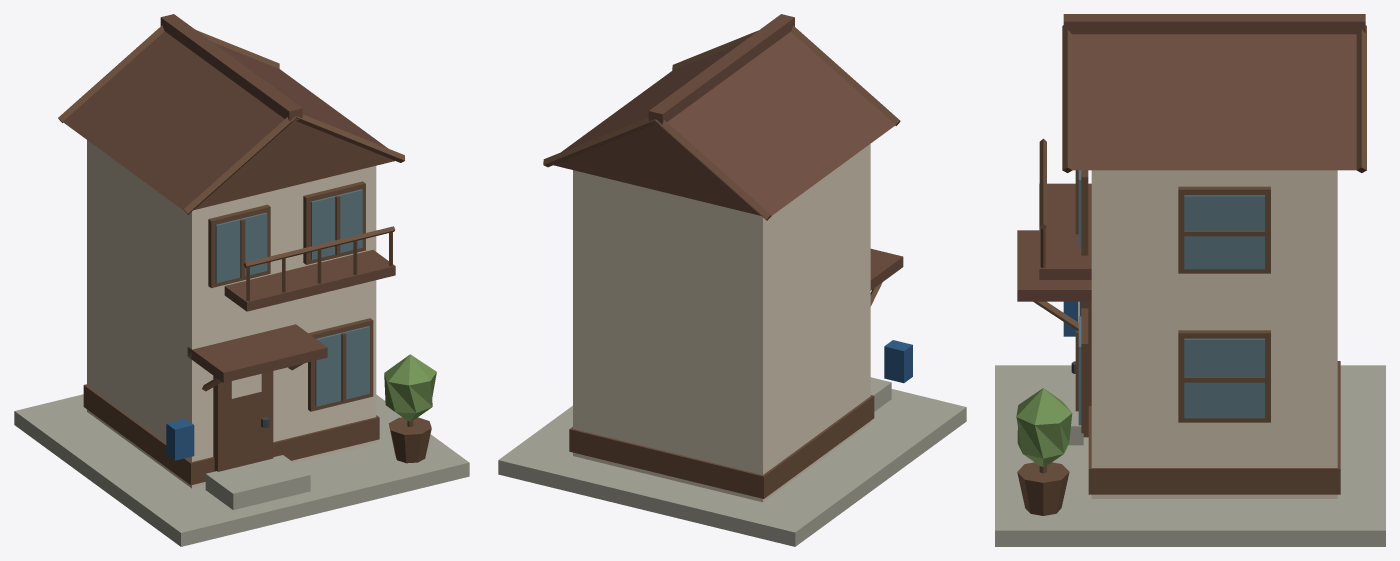
File: house-b.glb
3 renders of one model, left to right at view 1: azimuth 30°, elevation 25°; view 2: azimuth 150°, elevation 25°; view 3: azimuth 270°, elevation 25°, orthographic. The views are drawn at different scales.
Visible parts, largest first — view 1: Sand, RoofBrown, Concrete, WoodDark, Window, Leaf, HarborBlue; view 2: Sand, RoofBrown, Concrete, WoodDark, HarborBlue; view 3: Sand, RoofBrown, Concrete, WoodDark, Window, Leaf.
Part boxes in pixels (box(x1,y1,x2,y2)): Sand: box(87, 140, 376, 488); RoofBrown: box(63, 14, 395, 382); Concrete: box(14, 394, 469, 546); WoodDark: box(58, 25, 431, 485); Window: box(215, 189, 369, 406); Leaf: box(384, 354, 436, 421); HarborBlue: box(166, 419, 194, 460); Sand: box(573, 144, 870, 502); RoofBrown: box(554, 14, 903, 290); Concrete: box(498, 377, 966, 546); WoodDark: box(543, 25, 900, 498); HarborBlue: box(884, 340, 912, 383); Sand: box(1078, 170, 1337, 498); RoofBrown: box(1017, 14, 1365, 301); Concrete: box(995, 365, 1385, 546); WoodDark: box(1017, 25, 1366, 515); Window: box(1078, 170, 1264, 425); Leaf: box(1016, 388, 1072, 466).
Bounding box in the file's own units: 1.94 × 2.44 × 1.94.
